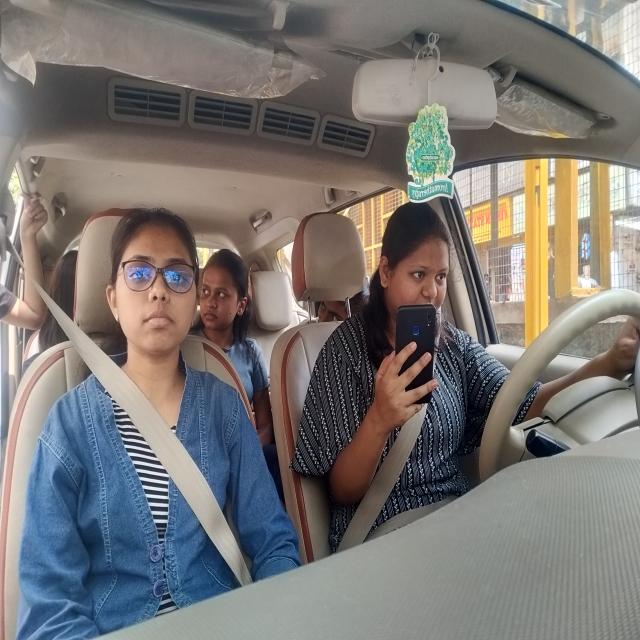mobile: (390, 286, 446, 416)
person: (99, 200, 204, 386), (382, 194, 475, 313), (202, 244, 249, 351)
